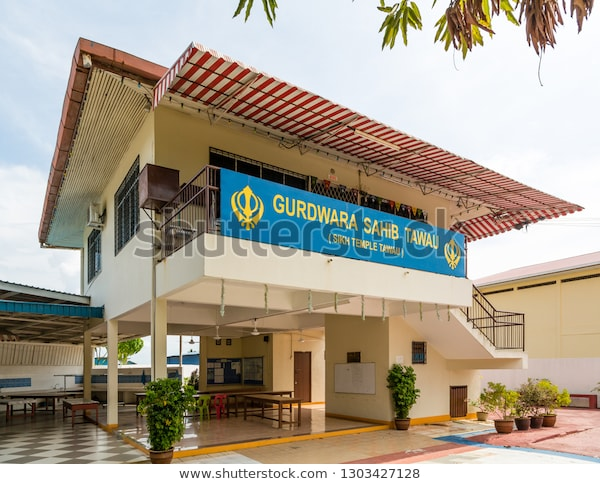Gurdwara: (64, 35, 506, 400)
